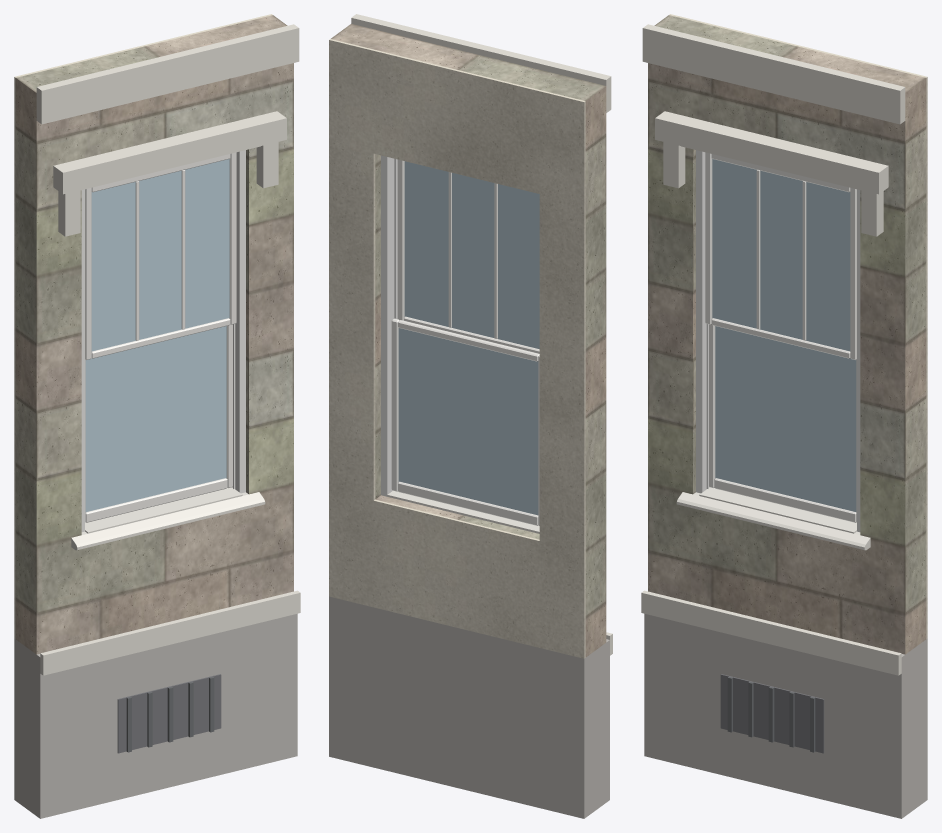
The model's file is lib_wall_window.glb.
3 views of the same model, side by side, from view 1: azimuth 30°, elevation 25°; view 2: azimuth 150°, elevation 25°; view 3: azimuth 330°, elevation 25° (orthographic).
Parts seen in each view (by area): view 1: lib_wall_window_stone, lib_wall_window_glass, lib_wall_window_granite, lib_wall_window_cornice, lib_wall_window_sash, lib_wall_window_frame, lib_wall_window_dark, lib_wall_window_trim, lib_wall_window_iron, lib_wall_window_plaster; view 2: lib_wall_window_plaster, lib_wall_window_granite, lib_wall_window_glass, lib_wall_window_stone, lib_wall_window_sash, lib_wall_window_frame, lib_wall_window_cornice, lib_wall_window_trim; view 3: lib_wall_window_stone, lib_wall_window_glass, lib_wall_window_granite, lib_wall_window_cornice, lib_wall_window_sash, lib_wall_window_frame, lib_wall_window_dark, lib_wall_window_trim, lib_wall_window_iron, lib_wall_window_plaster.
Part boxes in pixels (left/top/right/bottom): lib_wall_window_stone: left=15, top=15, right=293, bottom=654; lib_wall_window_glass: left=85, top=159, right=229, bottom=511; lib_wall_window_granite: left=14, top=613, right=297, bottom=818; lib_wall_window_cornice: left=36, top=24, right=300, bottom=675; lib_wall_window_sash: left=85, top=152, right=236, bottom=522; lib_wall_window_frame: left=81, top=150, right=245, bottom=532; lib_wall_window_dark: left=117, top=674, right=221, bottom=753; lib_wall_window_trim: left=71, top=487, right=265, bottom=550; lib_wall_window_iron: left=126, top=676, right=214, bottom=752; lib_wall_window_plaster: left=14, top=14, right=272, bottom=638; lib_wall_window_plaster: left=329, top=39, right=585, bottom=658; lib_wall_window_granite: left=329, top=596, right=609, bottom=818; lib_wall_window_glass: left=398, top=161, right=539, bottom=515; lib_wall_window_stone: left=331, top=24, right=606, bottom=657; lib_wall_window_sash: left=391, top=159, right=539, bottom=525; lib_wall_window_frame: left=381, top=155, right=397, bottom=496; lib_wall_window_cornice: left=351, top=14, right=612, bottom=655; lib_wall_window_trim: left=387, top=490, right=539, bottom=533; lib_wall_window_stone: left=648, top=15, right=926, bottom=654; lib_wall_window_glass: left=712, top=159, right=856, bottom=511; lib_wall_window_granite: left=644, top=613, right=927, bottom=818; lib_wall_window_cornice: left=641, top=24, right=905, bottom=675; lib_wall_window_sash: left=705, top=152, right=856, bottom=522; lib_wall_window_frame: left=696, top=150, right=860, bottom=532; lib_wall_window_dark: left=720, top=674, right=824, bottom=753; lib_wall_window_trim: left=676, top=487, right=870, bottom=550; lib_wall_window_iron: left=727, top=676, right=815, bottom=752; lib_wall_window_plaster: left=669, top=14, right=927, bottom=638.
Bounding box in the file's own units: 2 × 5.41 × 0.43.
10 materials, 2 textured.
